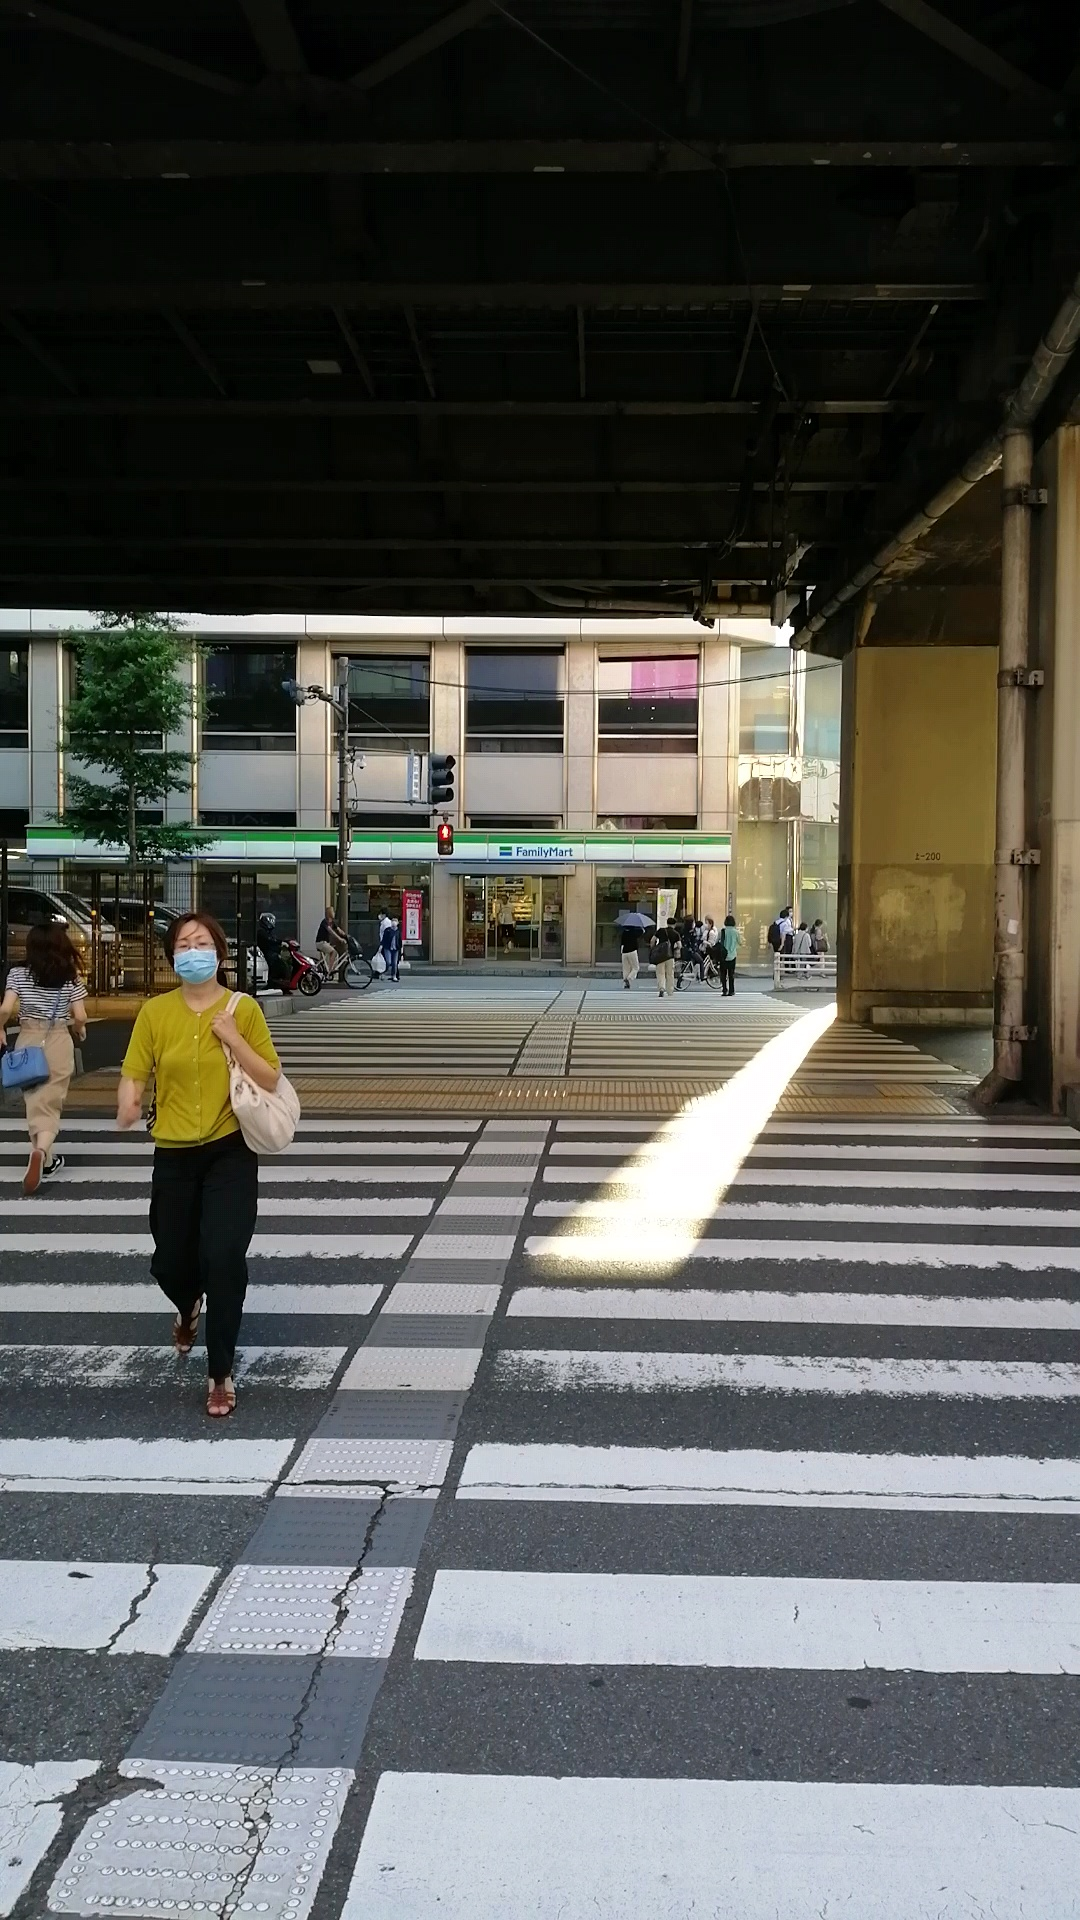red: (433, 822, 454, 860)
